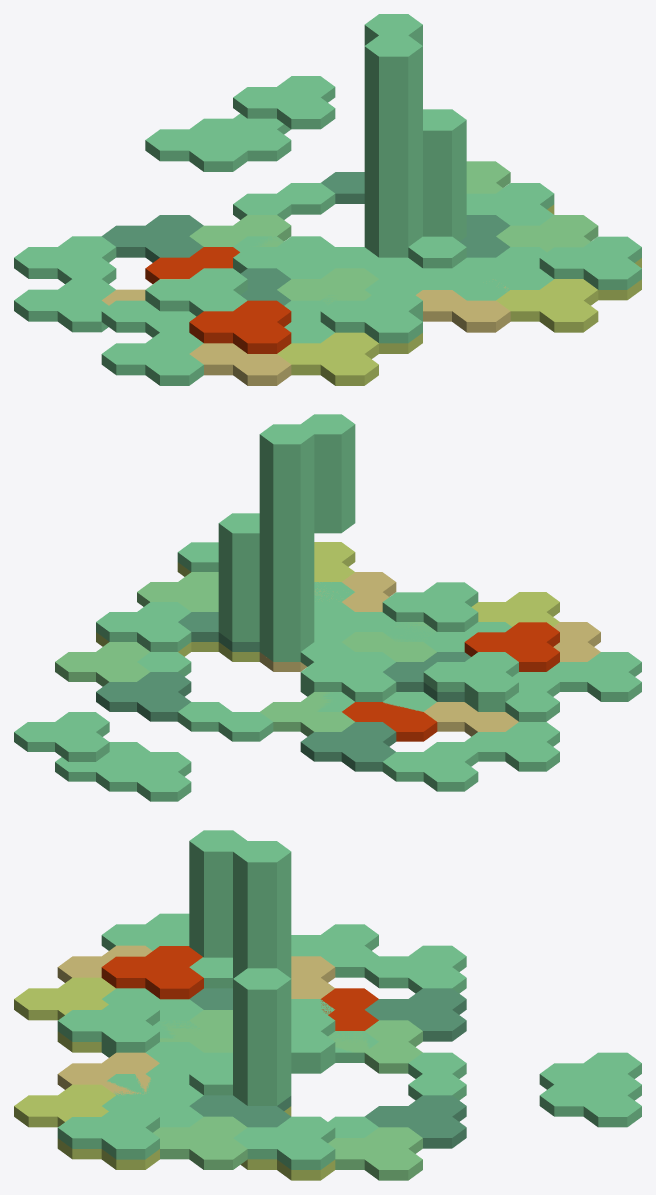
File: Map.fbx
3 views of the same model, one above another, from view 1: azimuth 30°, elevation 25°; view 2: azimuth 150°, elevation 25°; view 3: azimuth 270°, elevation 25° (orthographic). The views are drawn at different scales.
Visible parts, largest first — view 1: Cylinder.004; view 2: Cylinder.004; view 3: Cylinder.004.
Part boxes in pixels (x1,y1,x2,y2): Cylinder.004: (14,14,641,385); Cylinder.004: (14,414,641,801); Cylinder.004: (14,830,641,1180).
Bounding box in the file's own units: 9.96 × 4.6 × 10.75.
